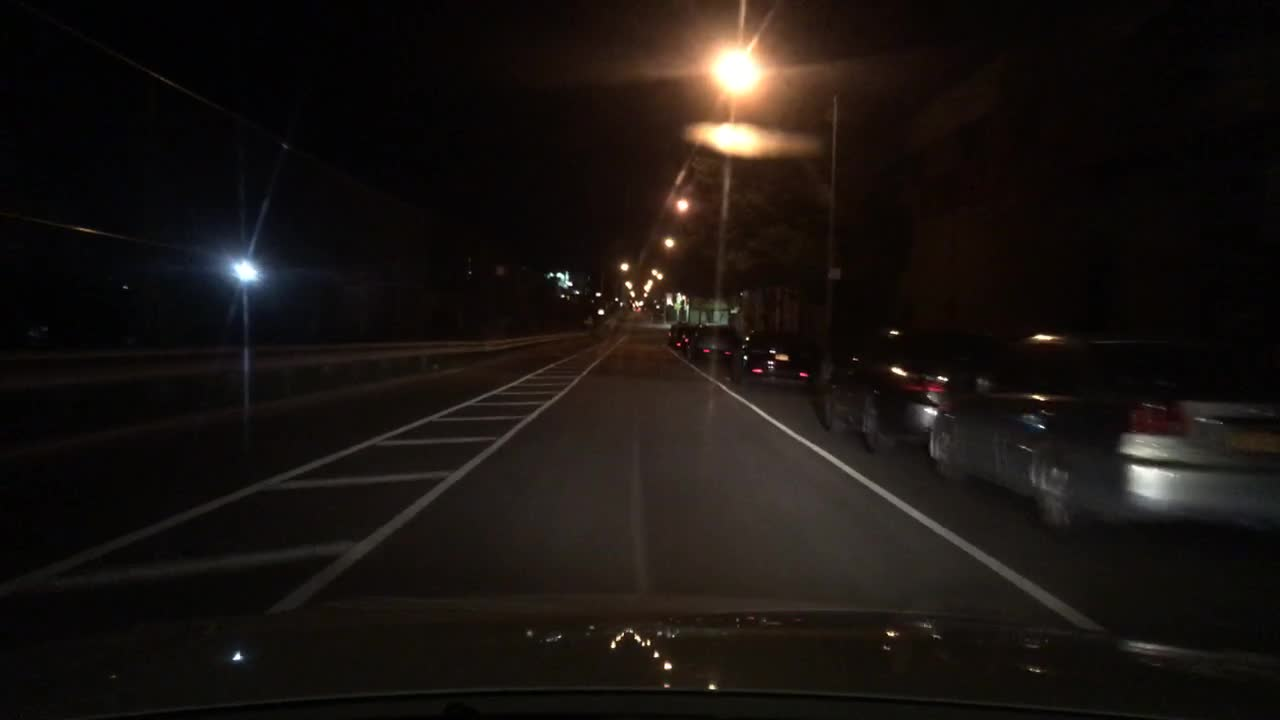car: (921, 323, 1276, 540), (810, 321, 1000, 453), (724, 330, 820, 390), (681, 322, 736, 361), (665, 322, 688, 350)
traffic sign: (824, 262, 842, 279)
